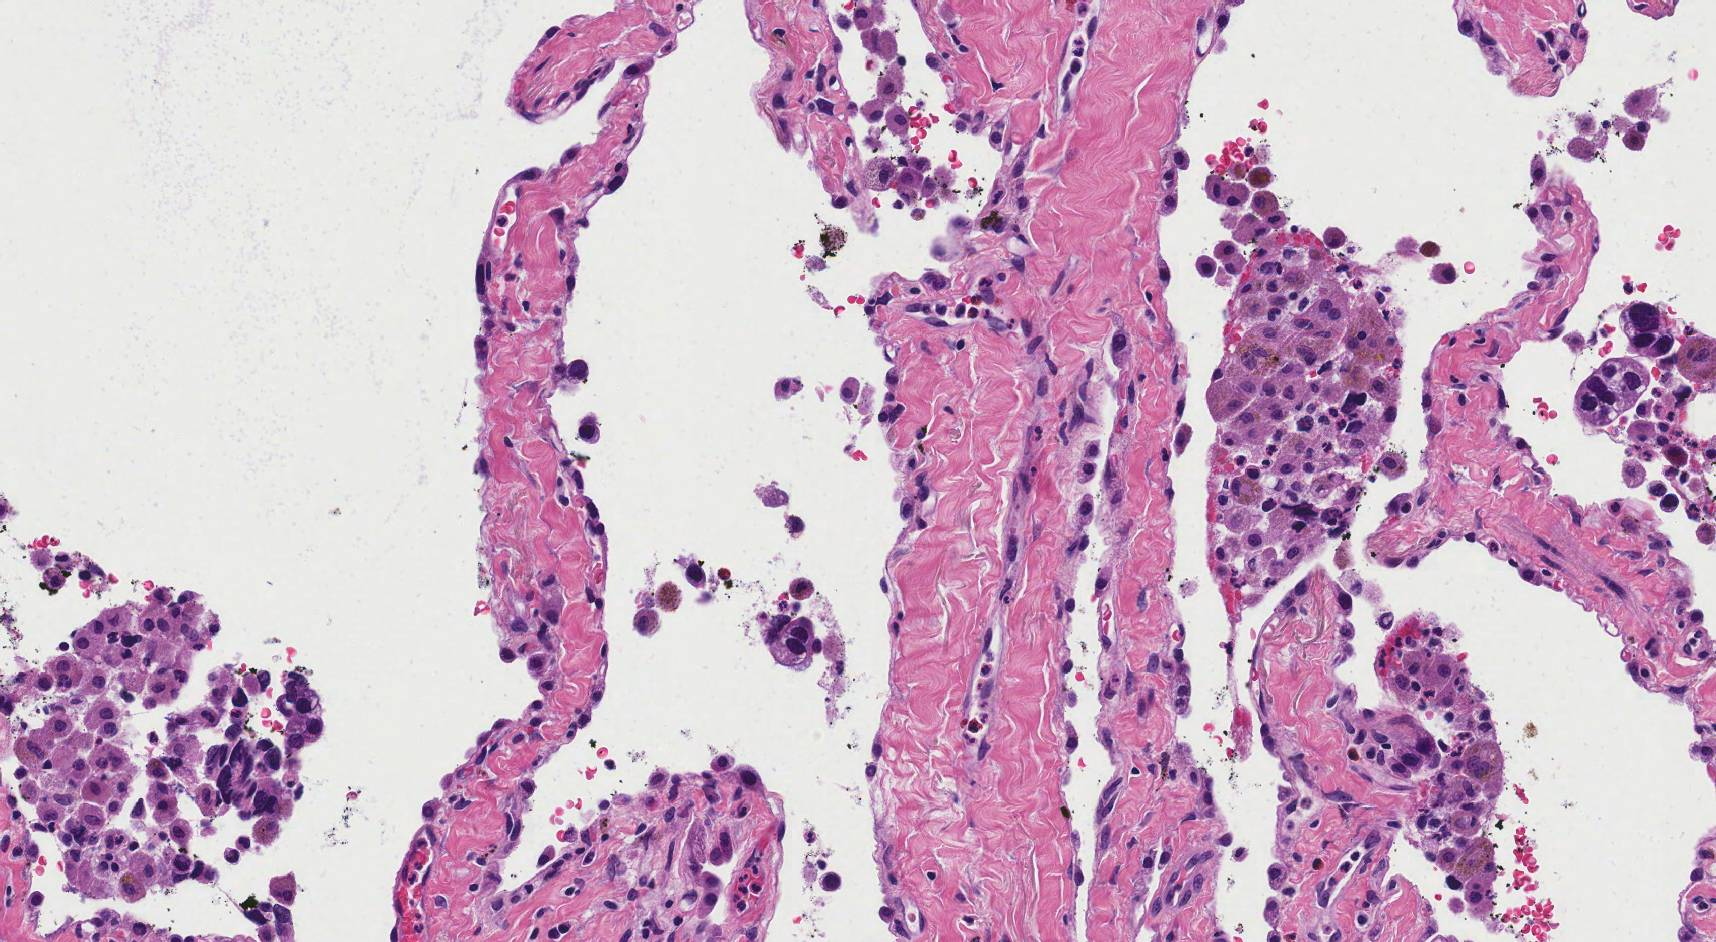stas: (203, 674, 321, 822), (1576, 357, 1647, 431), (1618, 303, 1676, 359), (760, 614, 822, 663)
